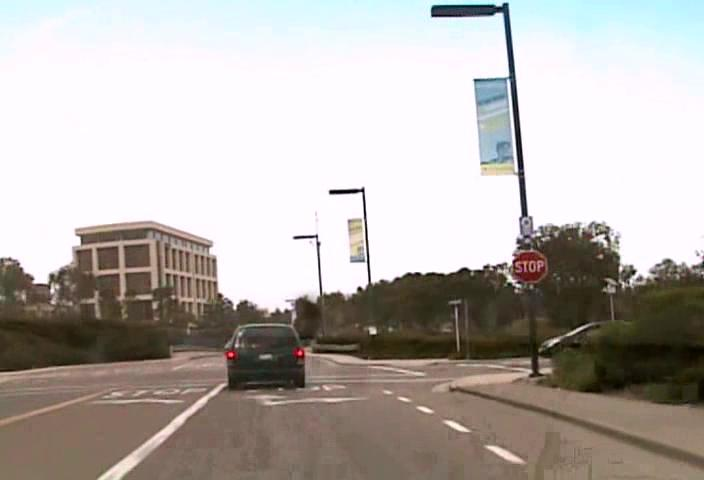stop: (511, 249, 548, 283)
